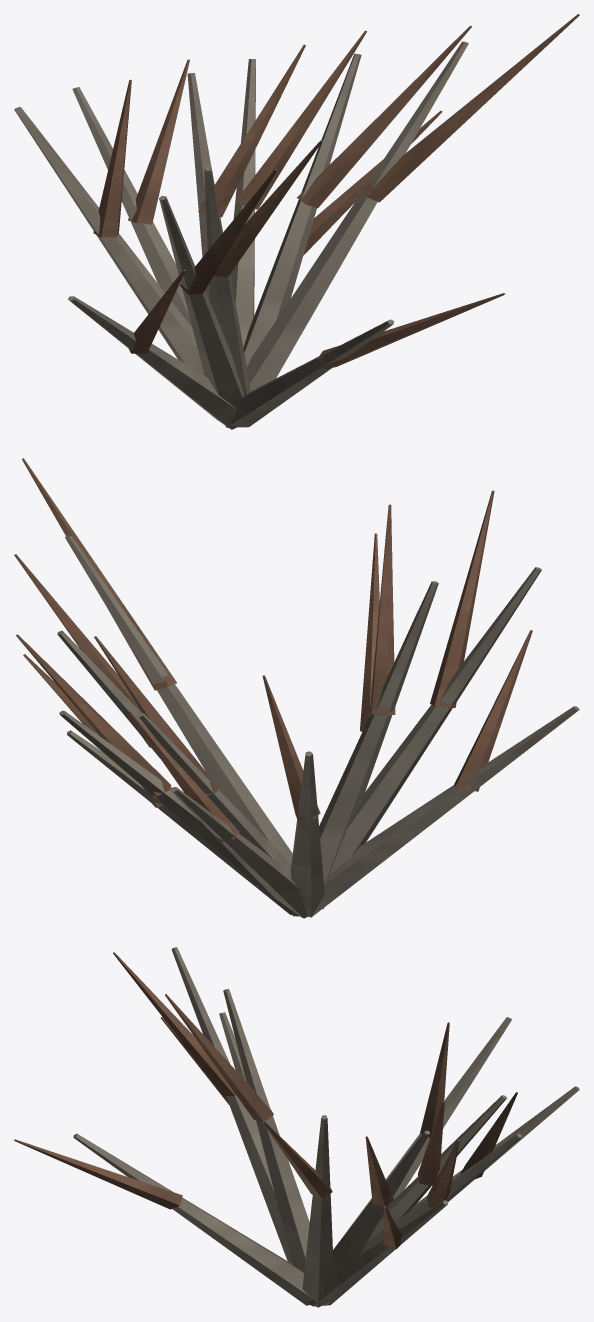
The model's file is bush_dry_01.fbx.
3 views of the same model, one above another, from view 1: azimuth 30°, elevation 25°; view 2: azimuth 150°, elevation 25°; view 3: azimuth 270°, elevation 25° (orthographic). The views are drawn at different scales.
Parts seen in each view (by area): view 1: bush_dry_01; view 2: bush_dry_01; view 3: bush_dry_01.
Boxes of the visible parts, x1,y1,x2,y2 form: bush_dry_01: (14,14,579,429); bush_dry_01: (14,458,579,918); bush_dry_01: (14,947,579,1307).
Bounding box in the file's own units: 126 × 80 × 129.
Materials: 1 (1 with a texture image).
